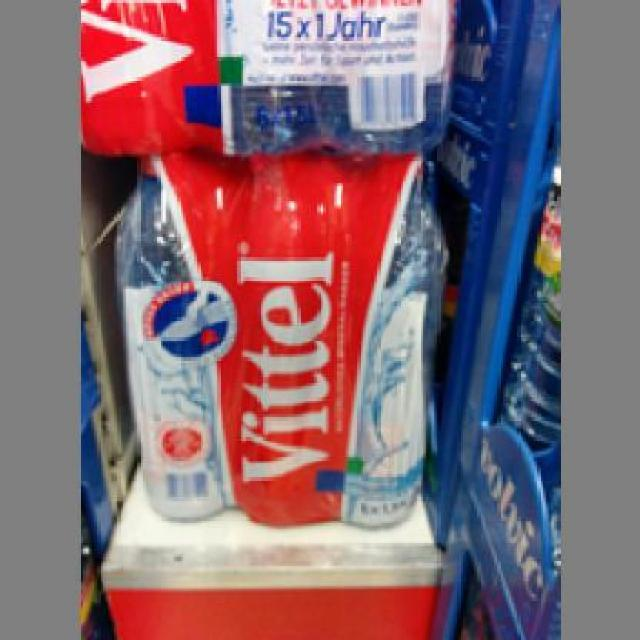Water: (109, 148, 440, 528)
